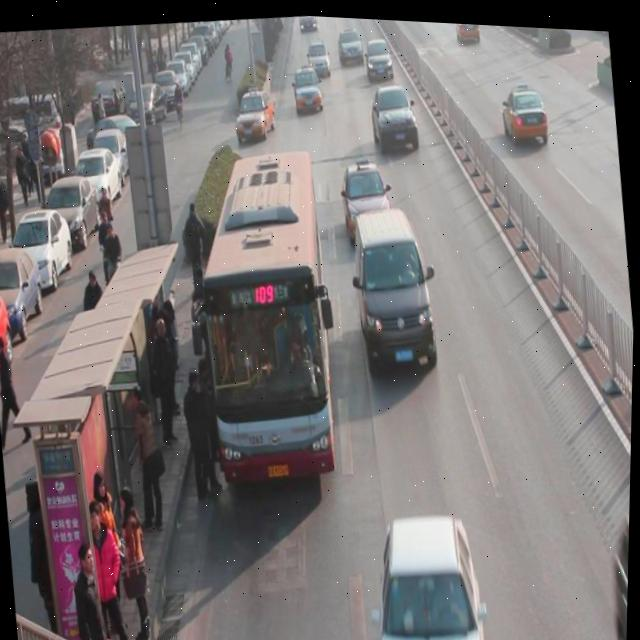car: (371, 503, 489, 640), (338, 150, 396, 240), (368, 77, 421, 148), (498, 74, 551, 141), (233, 81, 279, 141), (290, 60, 324, 113), (363, 32, 395, 77), (337, 22, 365, 62), (305, 34, 331, 75), (453, 18, 480, 41)
truck: (349, 197, 443, 372)
van: (185, 143, 343, 475)
